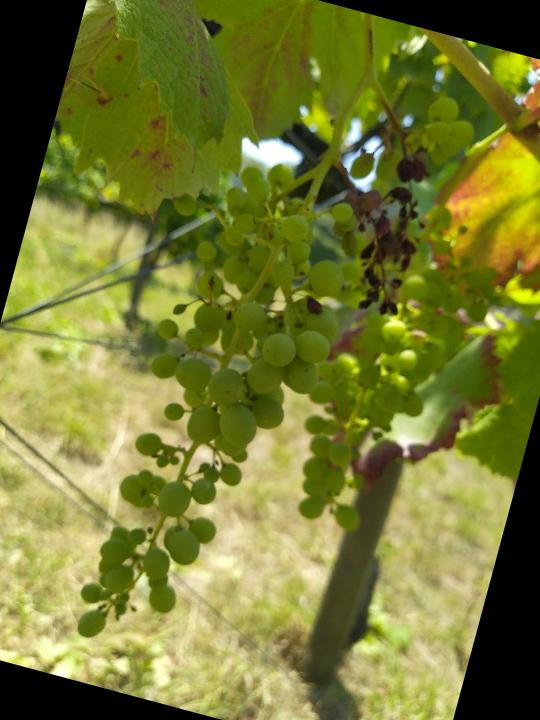grape: (51, 140, 387, 690), (338, 111, 467, 324)
